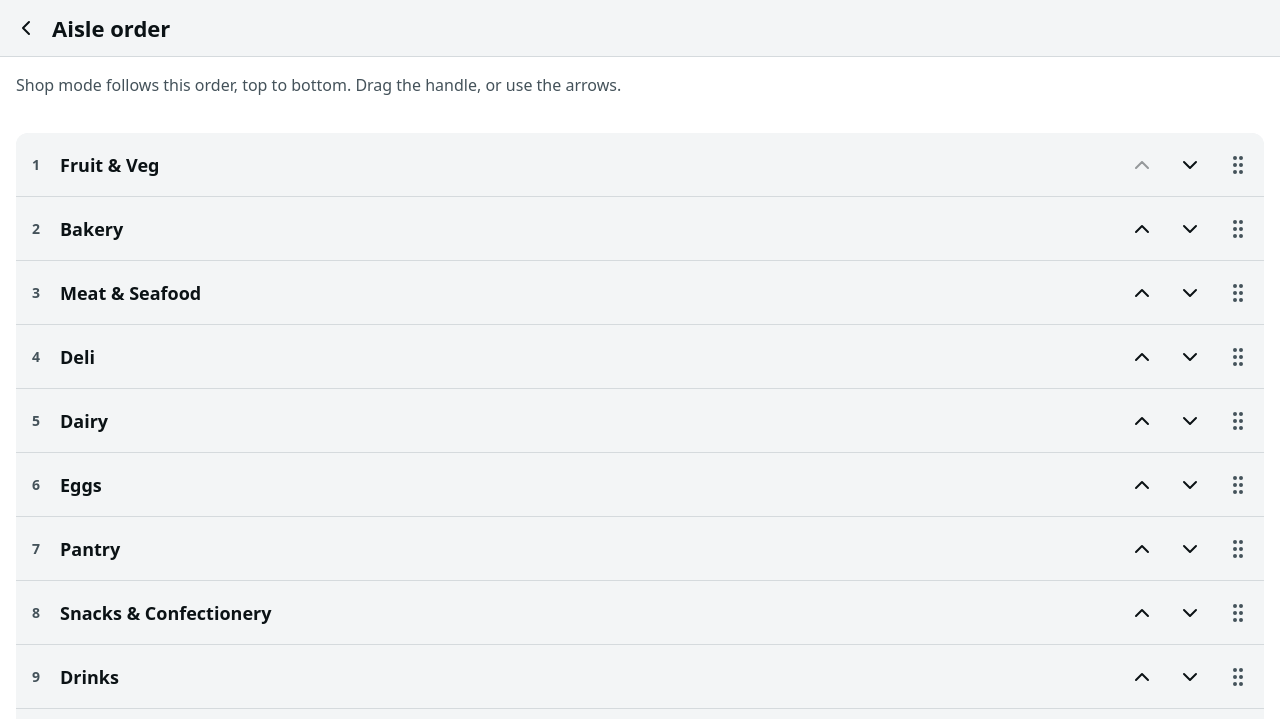
Test: Aisle order › reorders by dragging the handle
The width and height of the screenshot is (1280, 719).
Press the mouse on the element with test id "drag-bakery" at (1238, 228), box [1226,216,1250,240]
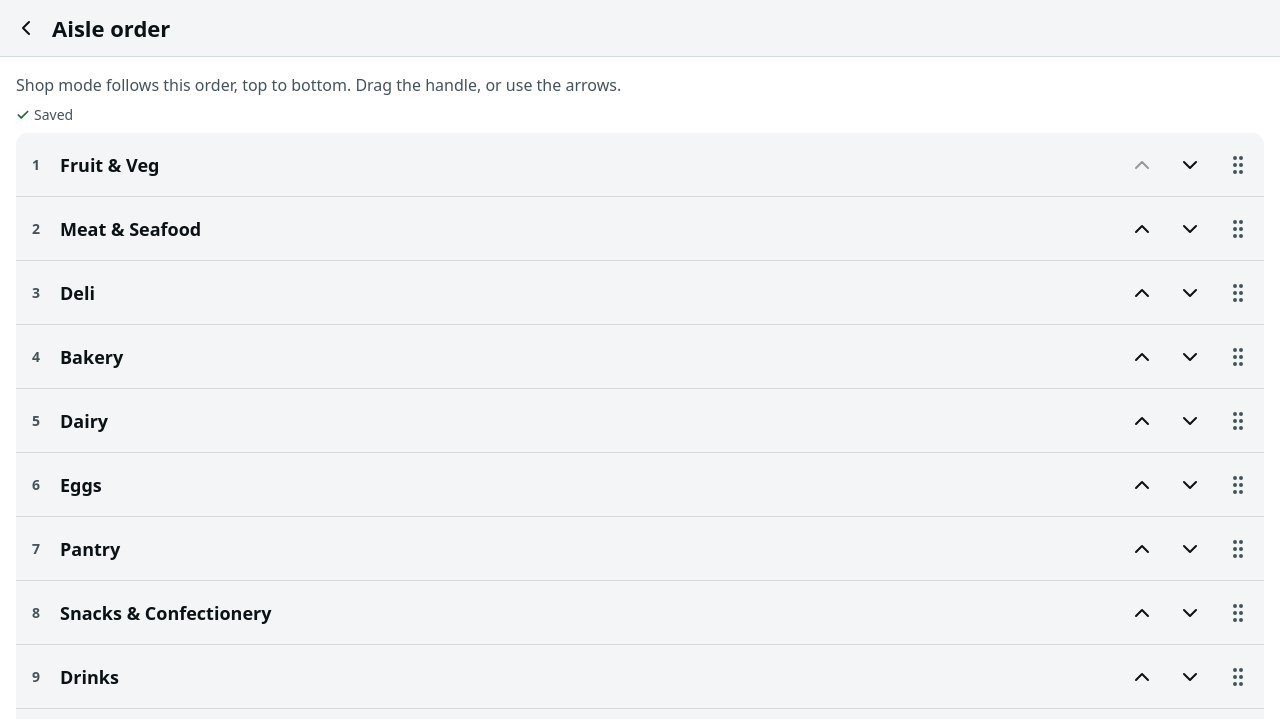
expect the text "Saved" is shown: met, box [34,105,73,125]
